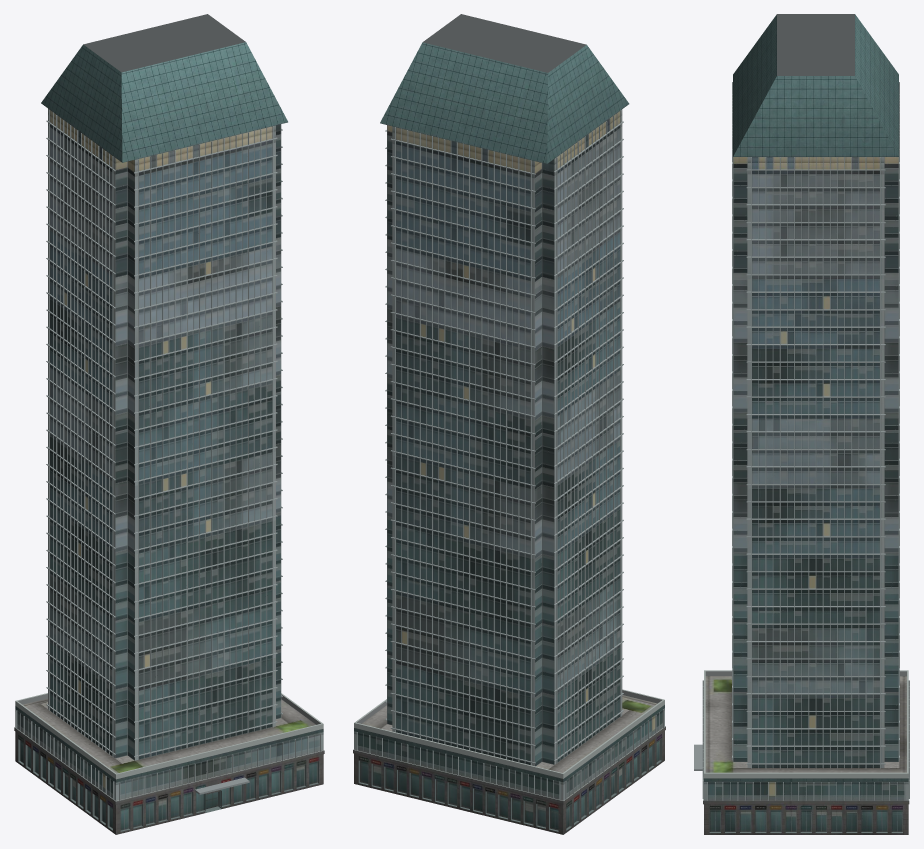
Rendered from seattle_glasstower_b.glb.
3 views of the same model, side by side, from view 1: azimuth 30°, elevation 25°; view 2: azimuth 150°, elevation 25°; view 3: azimuth 270°, elevation 25° (orthographic).
Visible parts, largest first — view 1: seattle_glasstower_b; view 2: seattle_glasstower_b; view 3: seattle_glasstower_b.
Part boxes in pixels (x1,y1,x2,y2): seattle_glasstower_b: (14,14,324,834); seattle_glasstower_b: (353,14,665,834); seattle_glasstower_b: (694,14,909,834).
Bounding box in the file's own units: 50.48 × 167 × 44.24.
Materials: 1 (1 with a texture image).
